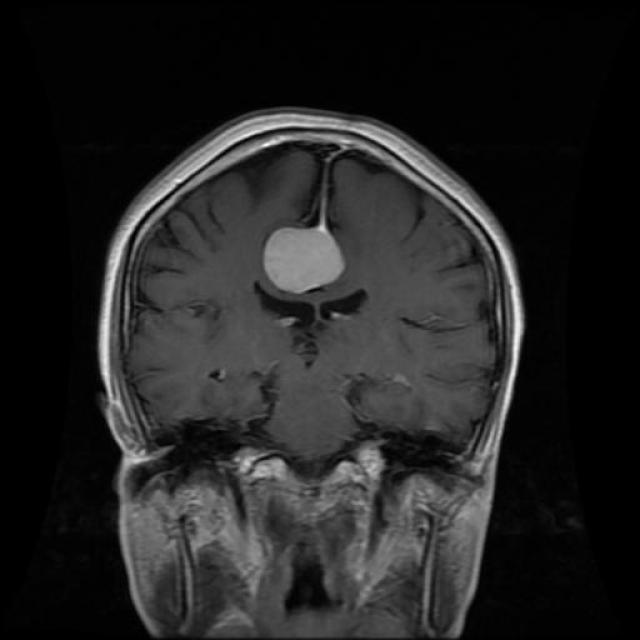meningioma: (262, 228, 345, 295)
